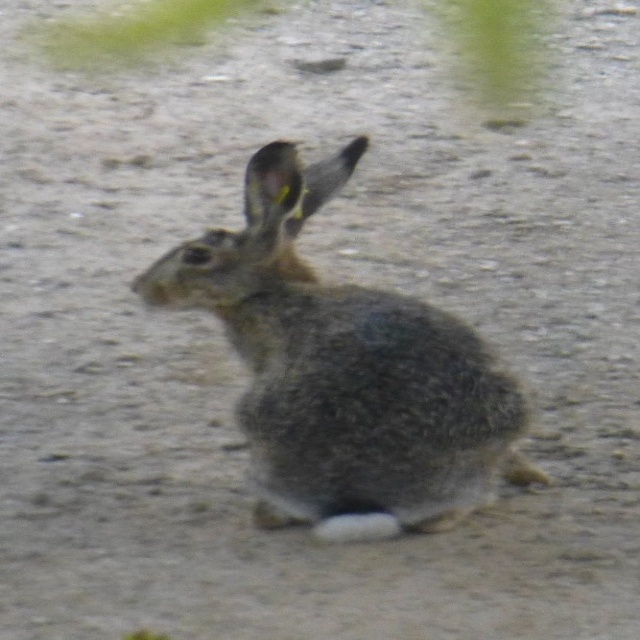Rabbit: (135, 139, 541, 545)
